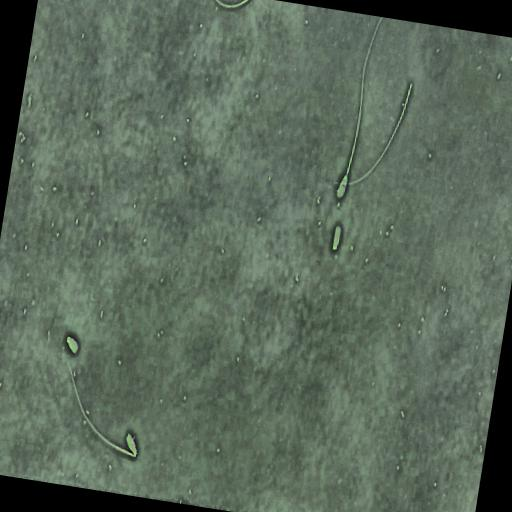folded-tail: (69, 364, 135, 457)
loose-head: (331, 221, 342, 253), (65, 333, 80, 356)
loose-tail: (332, 76, 415, 191)
normal: (333, 16, 388, 206), (62, 359, 143, 464)
